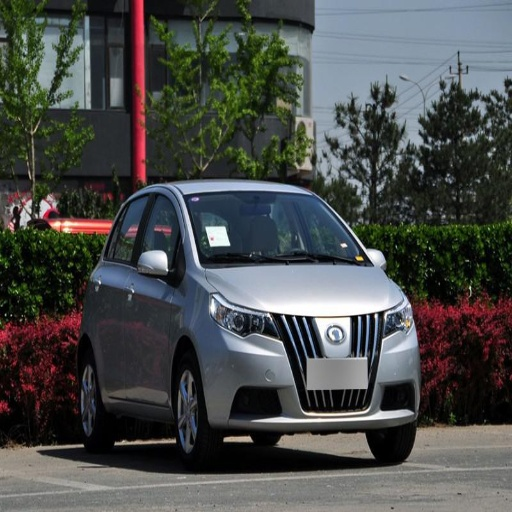front_bumper: (199, 310, 415, 436)
front_right_door: (124, 189, 183, 405)
front_right_light: (211, 295, 276, 337)
hood: (207, 267, 403, 315)
